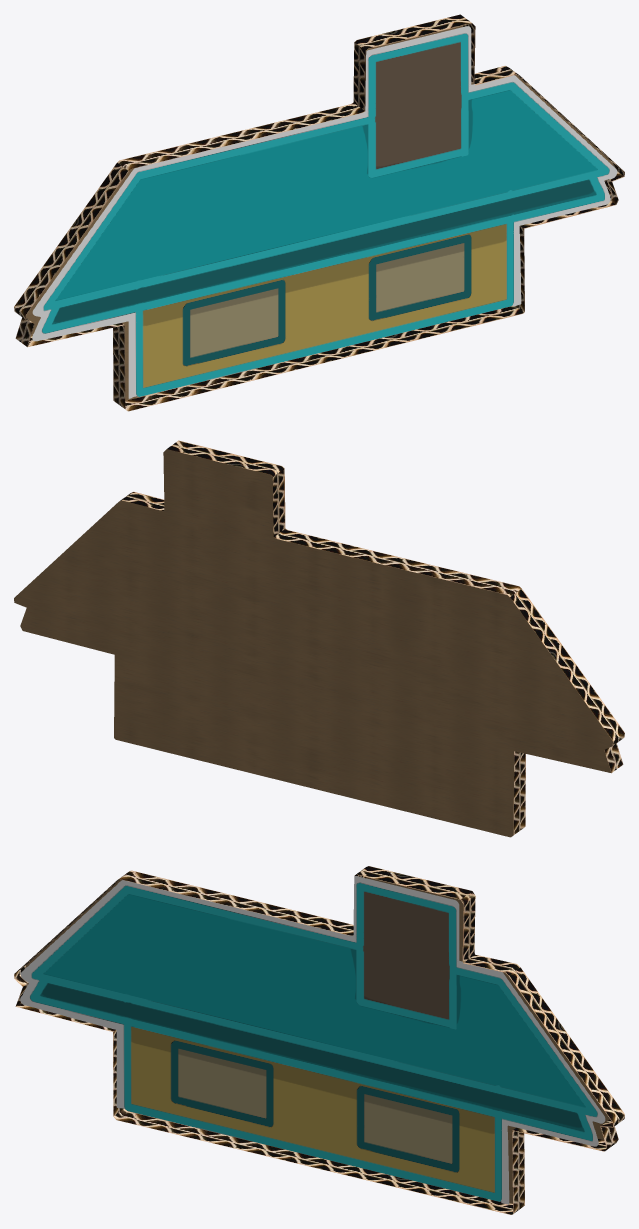
The model's file is House_Roof02.fbx.
3 renders of one model, top to bottom at view 1: azimuth 30°, elevation 25°; view 2: azimuth 150°, elevation 25°; view 3: azimuth 330°, elevation 25°, orthographic.
Parts seen in each view (by area): view 1: Line007; view 2: Line007; view 3: Line007.
Part boxes in pixels (box(x1,y1,x2,y2)): Line007: box(14, 14, 624, 411); Line007: box(14, 440, 624, 837); Line007: box(14, 866, 624, 1214).
Bounding box in the file's own units: 29.93 × 14.53 × 1.03.
Materials: 3 (3 with a texture image).
